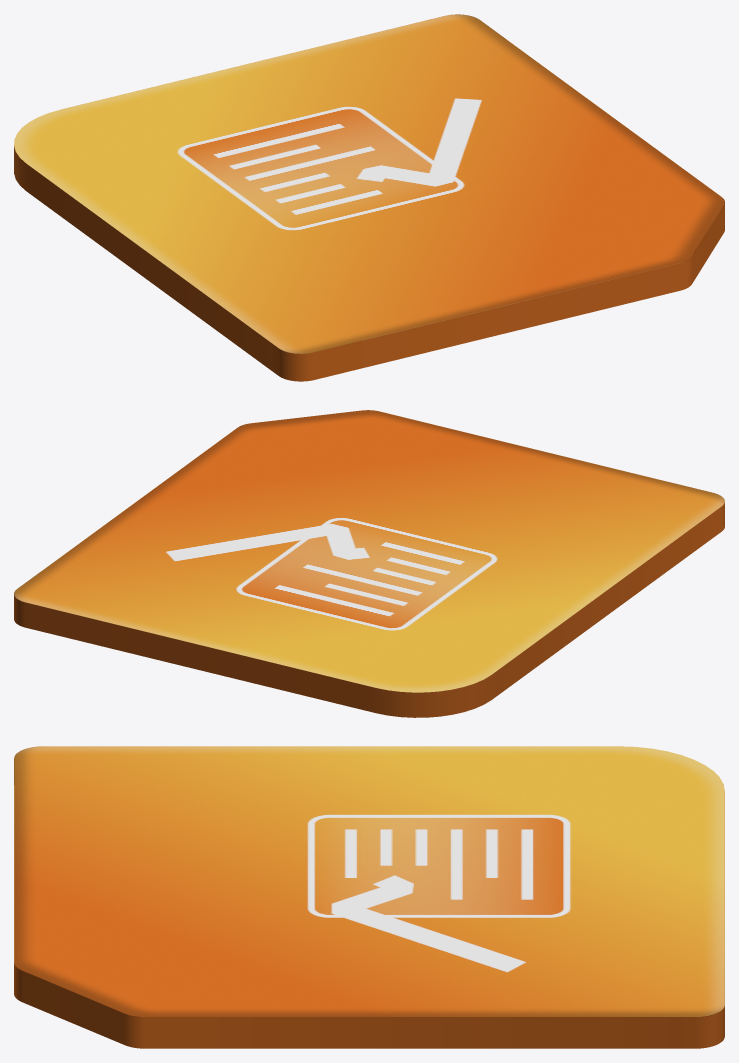
File: ModeObj.fbx
3 renders of one model, top to bottom at view 1: azimuth 30°, elevation 25°; view 2: azimuth 150°, elevation 25°; view 3: azimuth 270°, elevation 25°, orthographic. The views are drawn at different scales.
Visible parts, largest first — view 1: Curve; view 2: Curve; view 3: Curve.
Part boxes in pixels (left/top/right/bottom): Curve: left=14, top=14, right=724, bottom=381; Curve: left=14, top=410, right=724, bottom=717; Curve: left=14, top=746, right=724, bottom=1048.
Bounding box in the file's own units: 10.01 × 0.5434 × 11.1.
